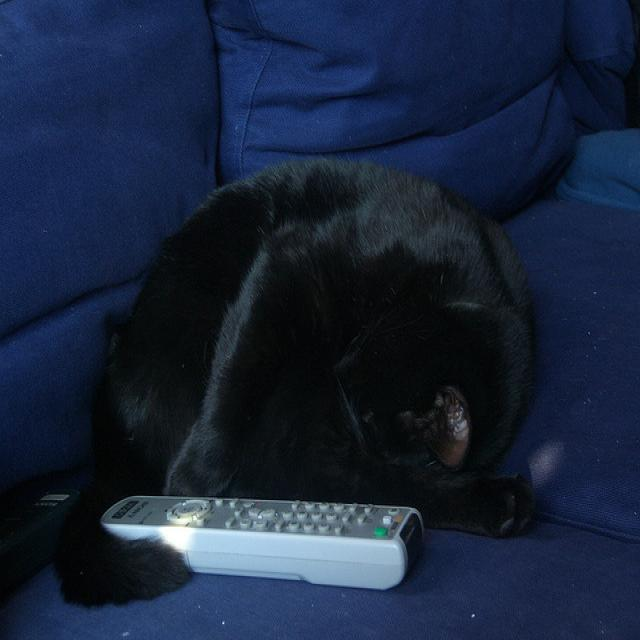Cat: (40, 139, 589, 596)
chair: (0, 0, 640, 640)
